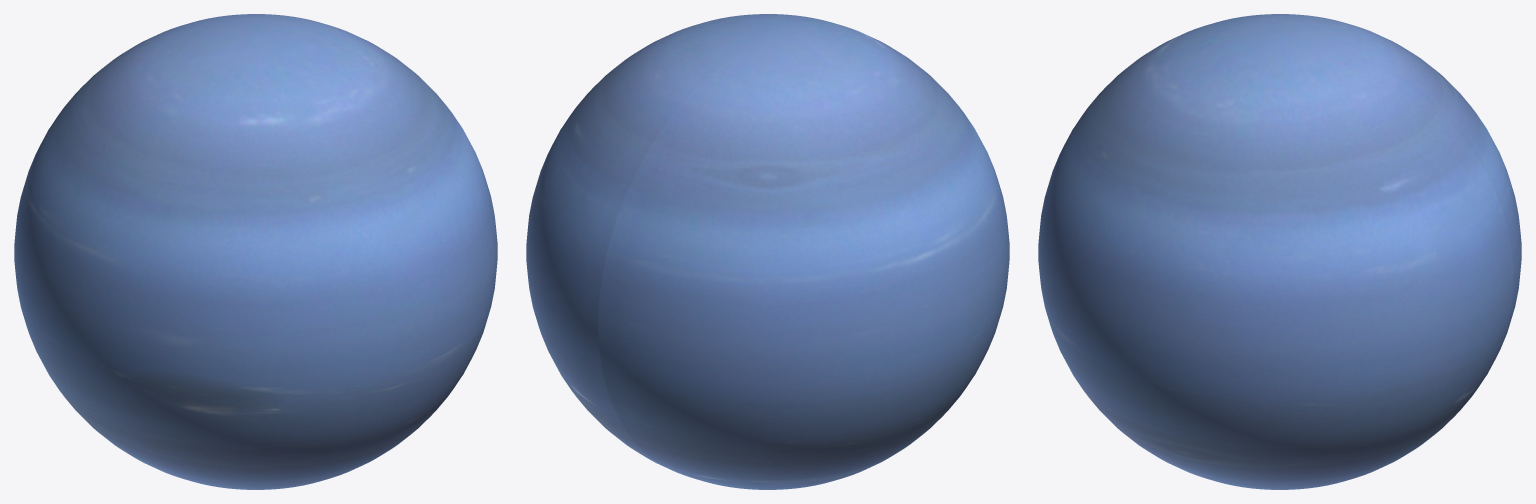
Rendered from NeptuneModel.gltf.
3 renders of one model, left to right at view 1: azimuth 30°, elevation 25°; view 2: azimuth 150°, elevation 25°; view 3: azimuth 270°, elevation 25°, orthographic.
Visible parts, largest first — view 1: Neptune; view 2: Neptune; view 3: Neptune.
Boxes of the visible parts, box(x1,y1,x2,y2) form: Neptune: box(14, 14, 497, 489); Neptune: box(526, 14, 1009, 489); Neptune: box(1038, 14, 1521, 489).
Bounding box in the file's own units: 1000 × 983 × 1000.
1 material, 1 textured.
